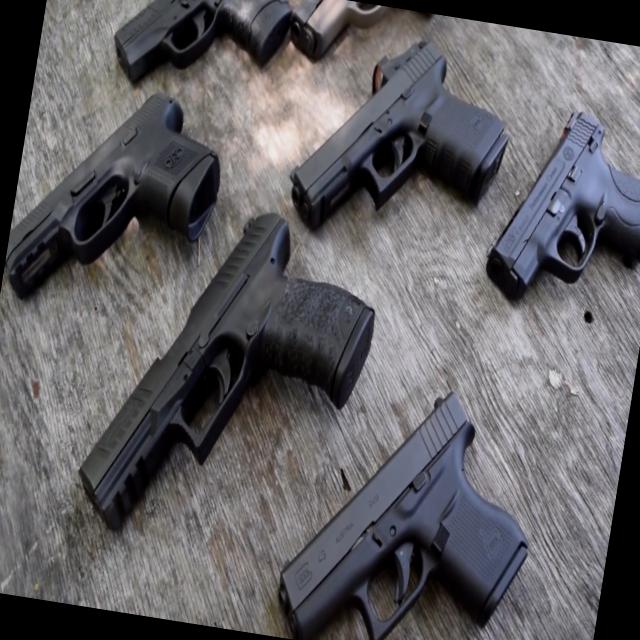handgun: (68, 210, 406, 552), (0, 50, 259, 345), (272, 365, 550, 639), (281, 18, 541, 259), (479, 107, 639, 335), (96, 0, 304, 113)
